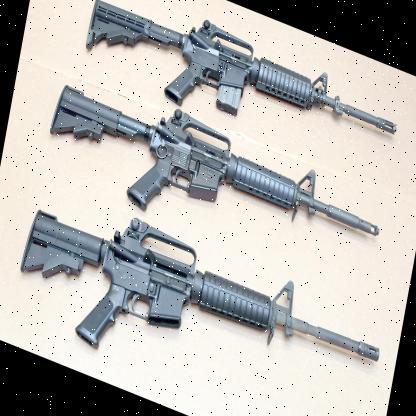rifle: (11, 171, 387, 416), (43, 63, 386, 297), (82, 0, 402, 184)
